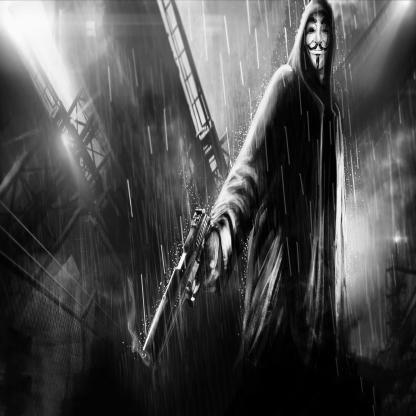pistol: (138, 206, 215, 358)
